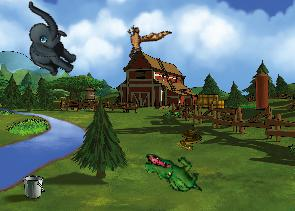crocodile: (142, 152, 204, 193)
eagle: (114, 9, 172, 68)
elephant: (4, 0, 92, 82)
